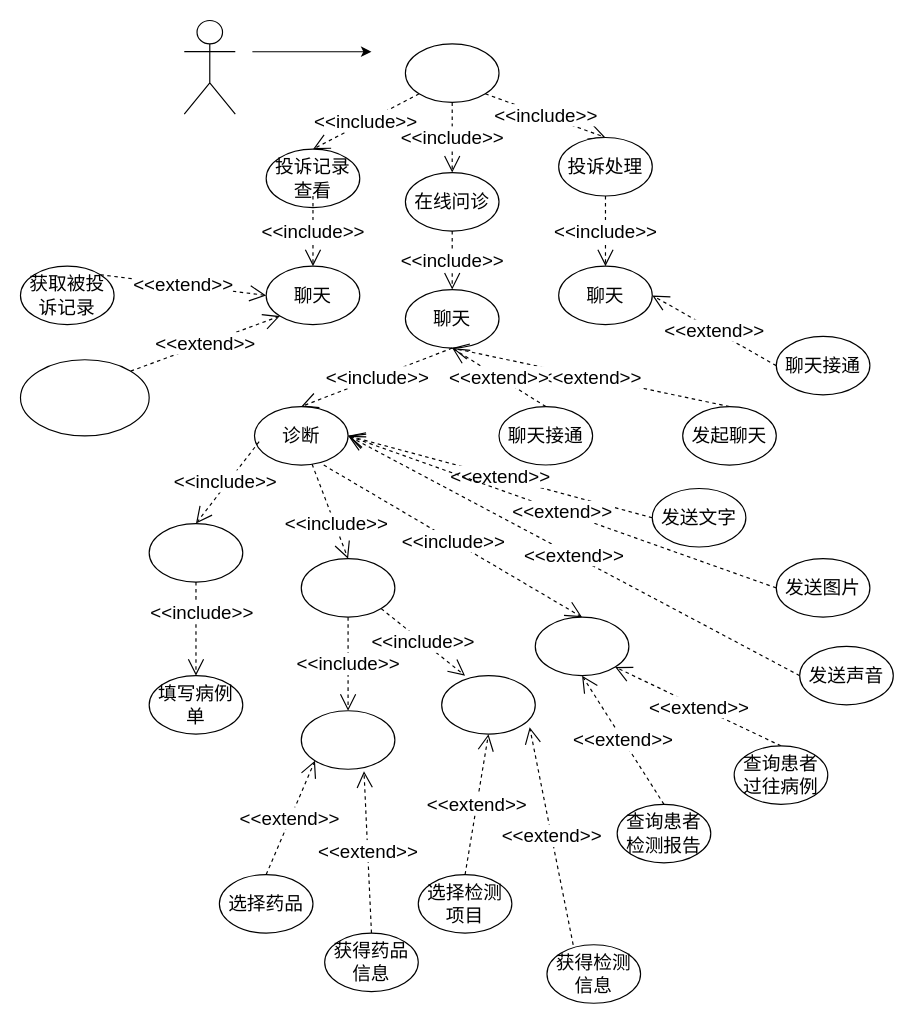
This 914x1024 diagram has some shape labels left out. The shapes that lost their labels are listed below. From the top down, each one's centre as x and y in pixels, then its label:
the point at 209,66: 医生
the point at 451,72: 医生模块
the point at 84,397: 获取被投诉处理结果
the point at 195,552: 病例
the point at 347,587: 开方
the point at 581,646: 诊断查询
the point at 488,704: 检测开方
the point at 347,739: 药品开方
